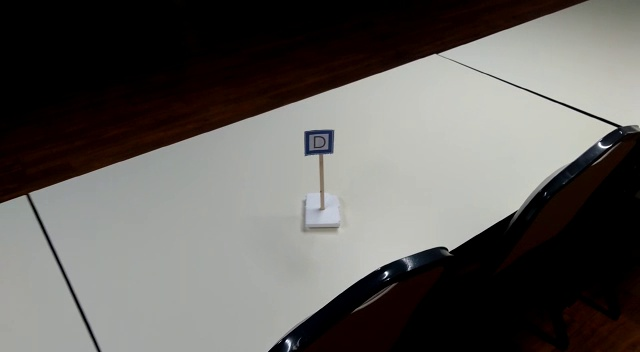durak: (305, 129, 332, 156)
